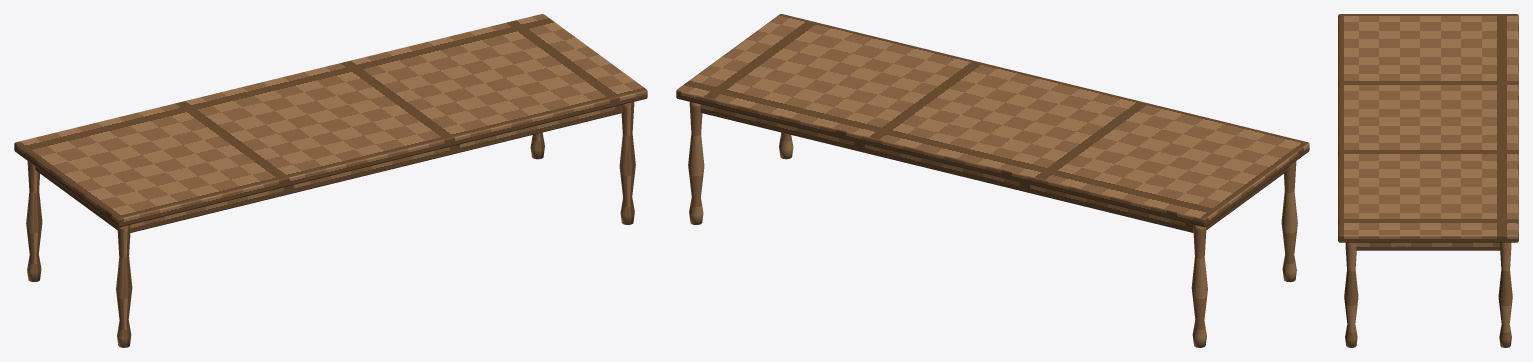
Rendered from table_v3.glb.
3 views of the same model, side by side, from view 1: azimuth 30°, elevation 25°; view 2: azimuth 150°, elevation 25°; view 3: azimuth 270°, elevation 25° (orthographic). The views are drawn at different scales.
Visible parts, largest first — view 1: dyn_wood_variant; view 2: dyn_wood_variant; view 3: dyn_wood_variant.
Boxes of the visible parts, x1,y1,x2,y2 form: dyn_wood_variant: [14, 14, 647, 347]; dyn_wood_variant: [676, 14, 1309, 347]; dyn_wood_variant: [1338, 14, 1518, 347].
Size of the model in its own units: 3.2 by 0.7805 by 1.1.
1 material, 1 textured.
